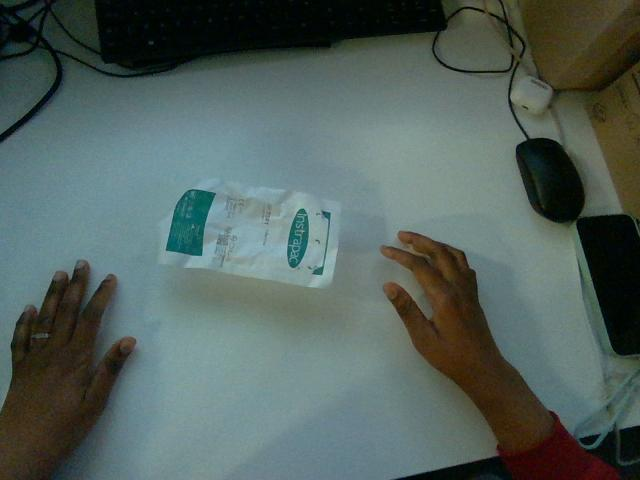gallipot: (158, 179, 339, 286)
